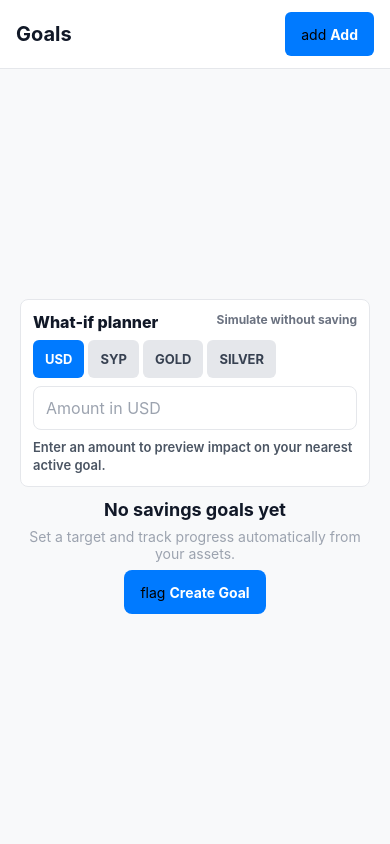
Test case: Goals screen › opens goal creation from the empty state
Step 1. Click the button with aria-label "Create first savings goal" → (195, 592), box [124,570,266,614]
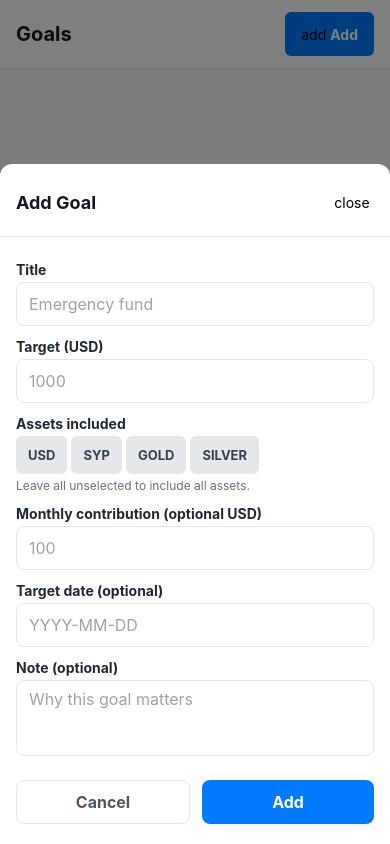
Result: the field named "Goal title" is shown at [16,282,374,326]
